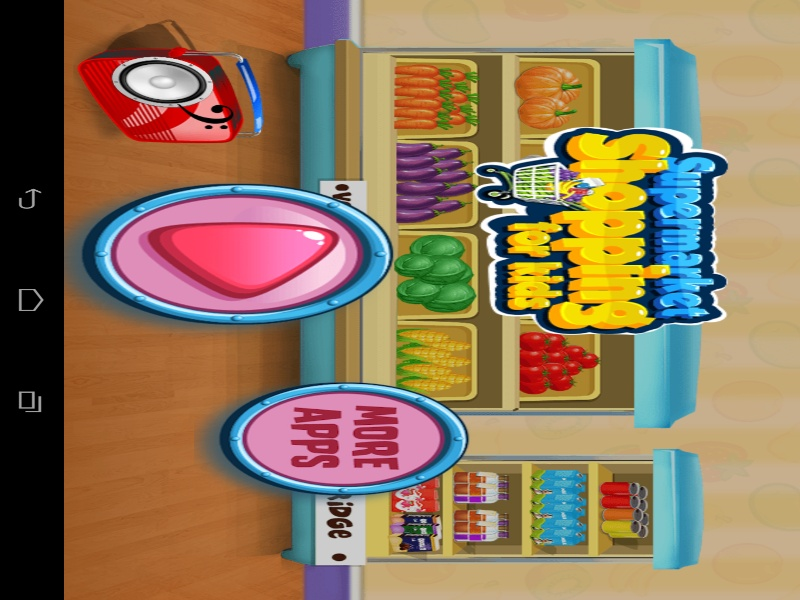Input: (0, 0, 29, 30)
